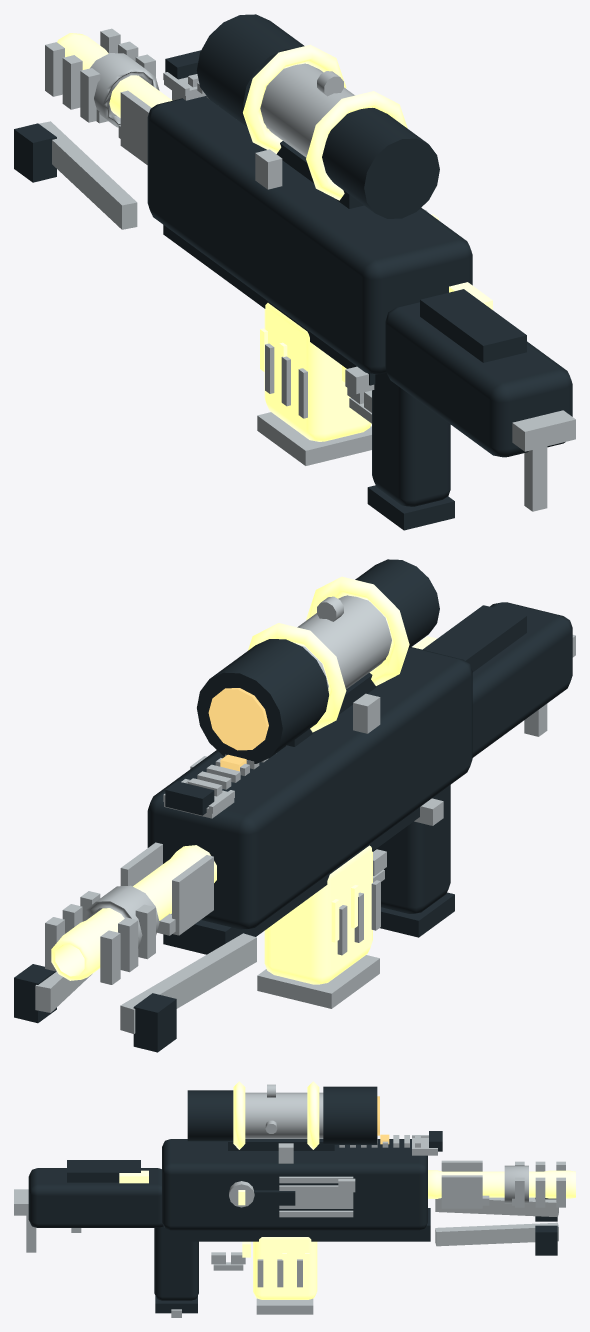
The model's file is weapon-8.glb.
3 views of the same model, one above another, from view 1: azimuth 30°, elevation 25°; view 2: azimuth 150°, elevation 25°; view 3: azimuth 270°, elevation 25° (orthographic). The views are drawn at different scales.
Parts seen in each view (by area): view 1: WorldBatch0, WorldBatch2, WorldBatch1; view 2: WorldBatch0, WorldBatch2, WorldBatch1, WorldBatch3; view 3: WorldBatch0, WorldBatch2, WorldBatch1.
Boxes of the visible parts, x1,y1,x2,y2 form: WorldBatch0: (14,14,572,530); WorldBatch2: (39,28,575,511); WorldBatch1: (57,33,492,441); WorldBatch0: (14,559,572,1052); WorldBatch2: (35,595,575,1033); WorldBatch1: (51,576,437,984); WorldBatch3: (208,688,268,771); WorldBatch0: (28,1086,557,1313); WorldBatch2: (14,1084,565,1317); WorldBatch1: (119,1081,575,1299).
Bounding box in the file's own units: 0.2085 × 0.502 × 1.14.
